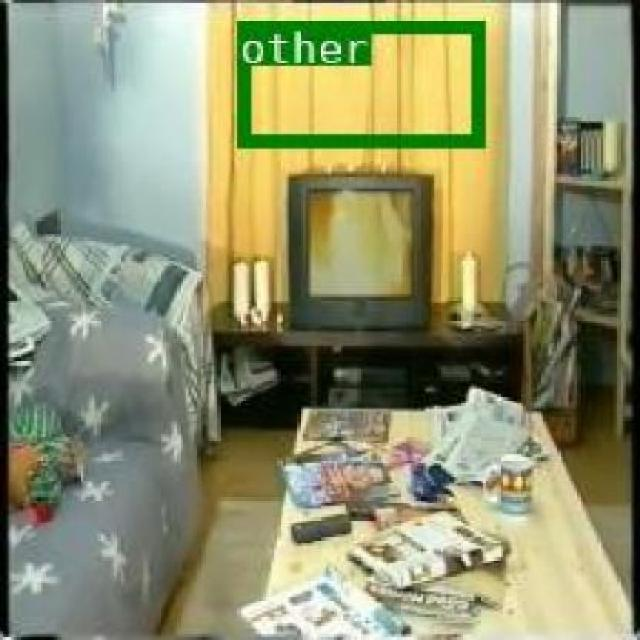other: (235, 20, 480, 145)
